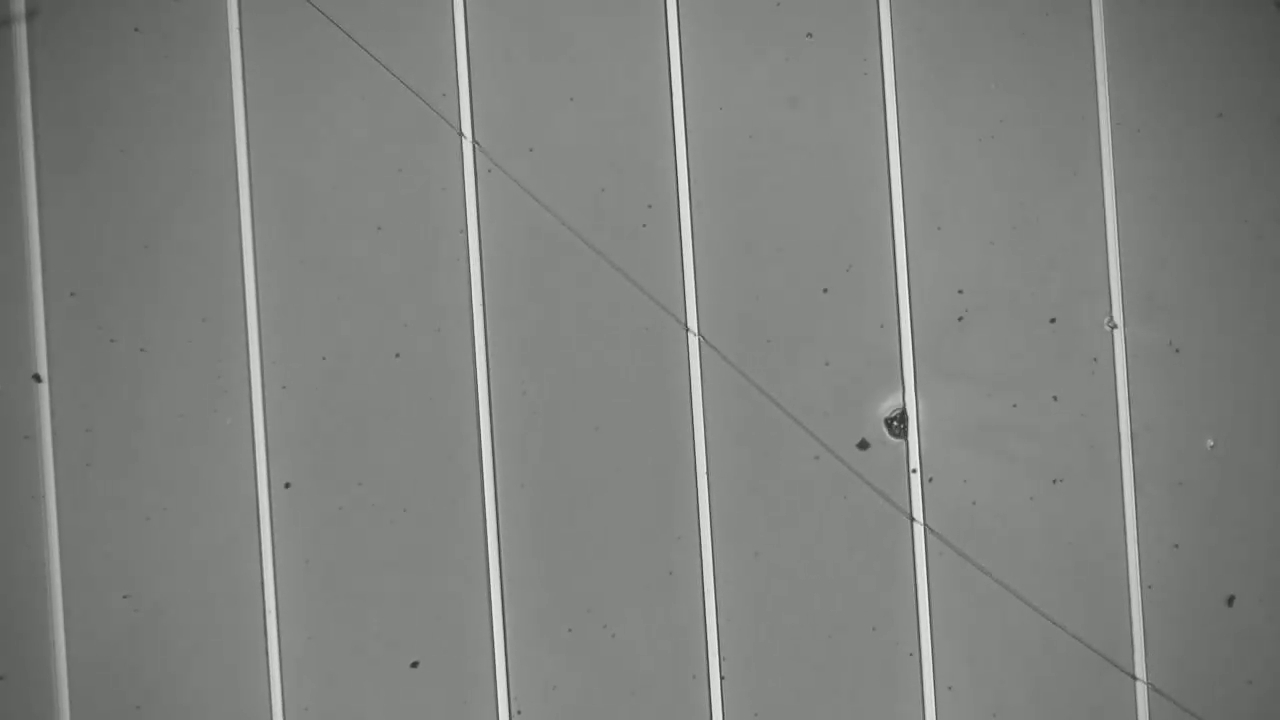scratch: (307, 1, 1196, 718)
stains_enbedded: (873, 389, 933, 453)
